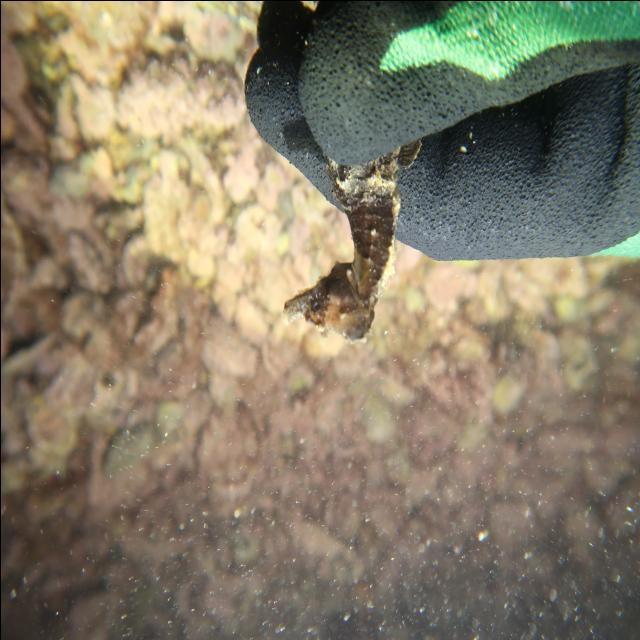Hippo: (278, 256, 374, 348)
